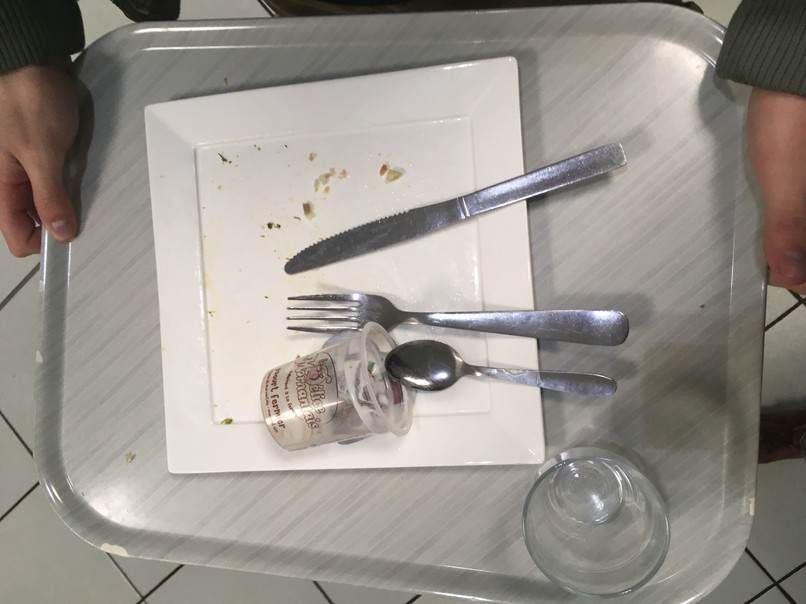cup: (522, 437, 683, 598)
cutlery: (279, 138, 621, 276), (286, 291, 633, 342), (382, 334, 629, 403)
trash: (262, 323, 415, 456)
